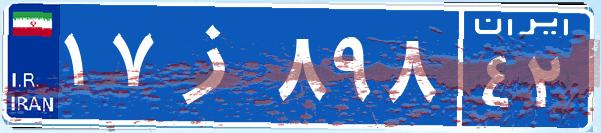1: (57, 26, 110, 107)
2: (525, 38, 570, 115)
4: (475, 38, 525, 113)
7: (110, 28, 158, 105)
8: (385, 28, 445, 110), (273, 28, 330, 110)
9: (330, 28, 385, 110)
ز: (158, 15, 273, 115)
